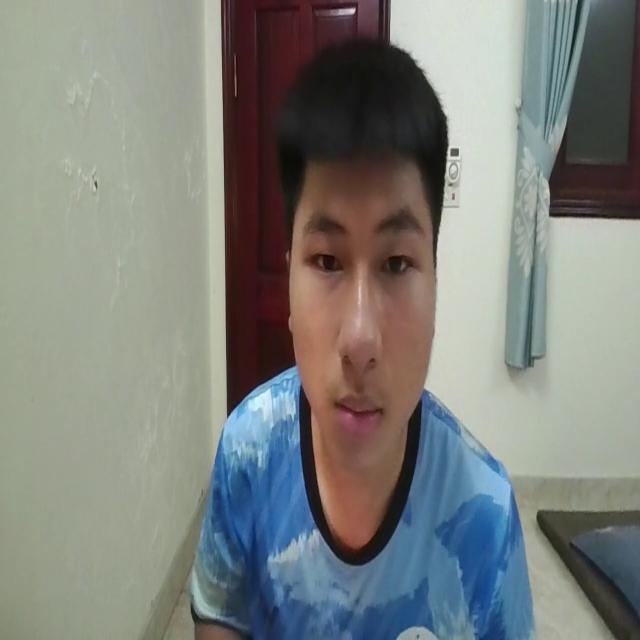student: (187, 34, 532, 640)
